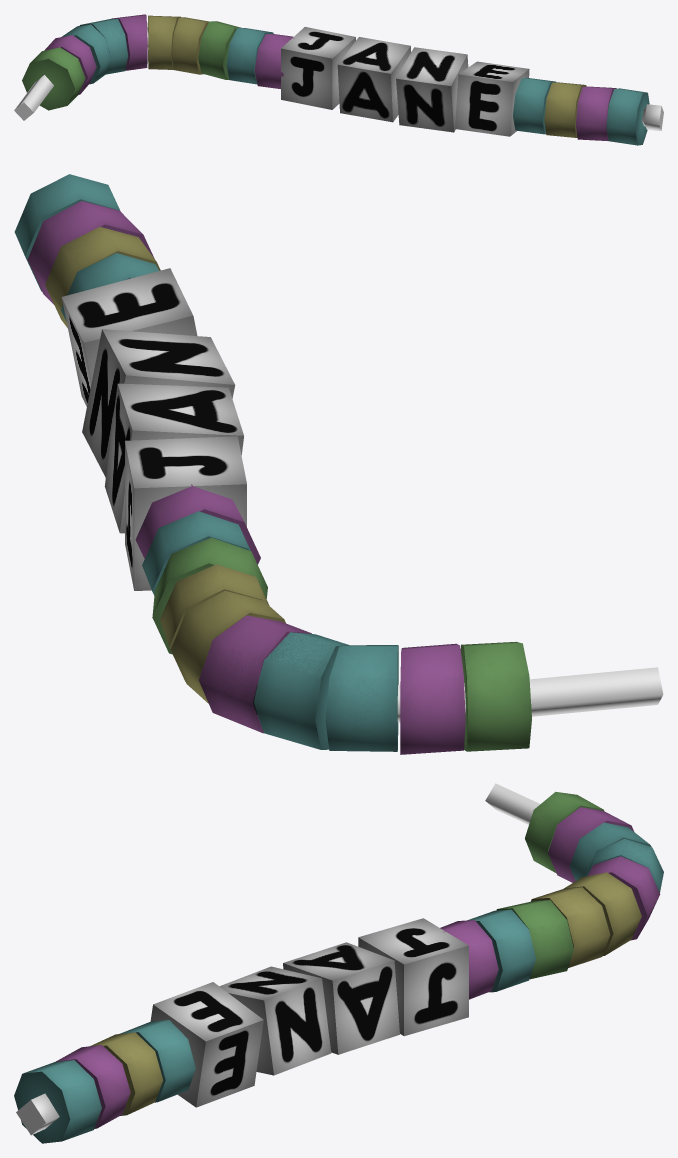
File: phone key chain.fbx
3 renders of one model, top to bottom at view 1: azimuth 30°, elevation 25°; view 2: azimuth 150°, elevation 25°; view 3: azimuth 270°, elevation 25°, orthographic. The views are drawn at different scales.
Parts seen in each view (by area): view 1: Cube.058, Cylinder.027, Cylinder.026, BézierCurve.006; view 2: Cylinder.027, Cube.058, Cylinder.026, BézierCurve.006; view 3: Cube.058, Cylinder.027, Cylinder.026, BézierCurve.006.
Boxes of the visible parts, x1,y1,x2,y2 form: Cube.058: (281, 27, 529, 136); Cylinder.027: (22, 14, 294, 110); Cylinder.026: (513, 78, 649, 145); BézierCurve.006: (14, 30, 663, 131); Cylinder.027: (135, 484, 531, 754); Cube.058: (61, 268, 246, 590); Cylinder.026: (14, 174, 160, 328); BézierCurve.006: (397, 667, 663, 722); Cube.058: (150, 918, 468, 1107); Cylinder.027: (440, 791, 663, 999); Cylinder.026: (14, 1020, 195, 1143); BézierCurve.006: (16, 783, 540, 1135).
Bounding box in the file's own units: 20.83 × 2.45 × 17.29.
